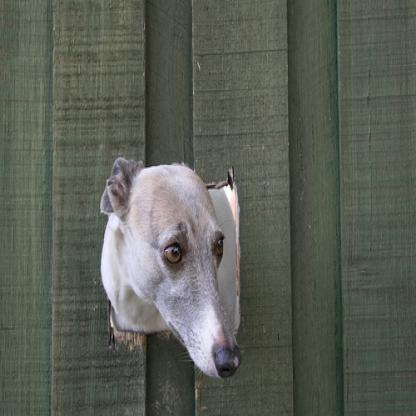dog: (99, 156, 243, 384)
